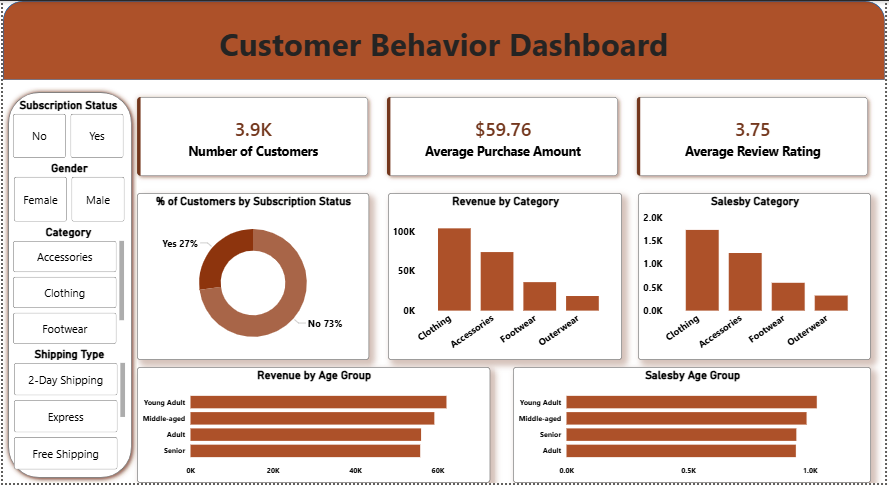

This screenshot's page, from the dashboard's own definition file:
{"tool":"powerbi","page":{"name":"Page 1","canvas":[1500,820],"ordinal":0},"visuals":[{"type":"cardVisual","title":"db","fields":{"Data":["public customer.number_of_customers","public customer.average_purchase_amount","public customer.average_review_rating"]},"box":[199,134.4,1301.5,192.2],"z":0},{"type":"shape","box":[0,0,1500.5,134.4],"z":1000},{"type":"textbox","box":[0,30.6,1500.5,103.8],"z":2000},{"type":"donutChart","title":"% of Customers by Subscription Status","fields":{"Y":["CountNonNull(public customer.subscription_status)"],"Category":["public customer.subscription_status"]},"box":[228,326.6,394.7,284.1],"z":3000},{"type":"clusteredColumnChart","title":"Revenue by Category","fields":{"Y":["Sum(public customer.purchase_amount)"],"Category":["public customer.category"]},"box":[655,326.6,398.1,284.1],"z":4000},{"type":"clusteredColumnChart","title":"Salesby Category","fields":{"Y":["CountNonNull(public customer.customer_id)"],"Category":["public customer.category"]},"box":[1080.3,326.6,396.4,284.1],"z":4001},{"type":"shape","box":[0,146.3,228,673.7],"z":4002},{"type":"advancedSlicerVisual","fields":{"Values":["public customer.subscription_status"]},"box":[11.9,165,199,107.2],"z":4003},{"type":"advancedSlicerVisual","fields":{"Values":["public customer.gender"]},"box":[13.6,272.2,199,108.9],"z":4004},{"type":"advancedSlicerVisual","fields":{"Values":["public customer.category"]},"box":[11.9,381.1,199,207.6],"z":4005},{"type":"advancedSlicerVisual","fields":{"Values":["public customer.shipping_type"]},"box":[13.6,588.6,199,214.4],"z":4006},{"type":"clusteredBarChart","title":"Revenue by Age Group","fields":{"Category":["public customer.age_group"],"Y":["Sum(public customer.purchase_amount)"]},"box":[228,622.7,600.5,197.3],"z":4007},{"type":"clusteredBarChart","title":"Salesby Age Group","fields":{"Category":["public customer.age_group"],"Y":["CountNonNull(public customer.customer_id)"]},"box":[867.6,622.7,609,197.3],"z":4008}]}

Visuals, with their boxes in screenshot pixels (x1, y1, x2, y2), scaled from the page's 1500x820 canvas onto the 889x488 screenshot:
"db" cardVisual: 118:80:888:194
shape: 0:0:888:80
textbox: 0:18:888:80
"% of Customers by Subscription Status" donutChart: 135:194:369:363
"Revenue by Category" clusteredColumnChart: 388:194:624:363
"Salesby Category" clusteredColumnChart: 640:194:875:363
shape: 0:87:135:487
advancedSlicerVisual - public customer.subscription_status: 7:98:125:162
advancedSlicerVisual - public customer.gender: 8:162:126:227
advancedSlicerVisual - public customer.category: 7:227:125:350
advancedSlicerVisual - public customer.shipping_type: 8:350:126:478
"Revenue by Age Group" clusteredBarChart: 135:371:491:487
"Salesby Age Group" clusteredBarChart: 514:371:875:487
